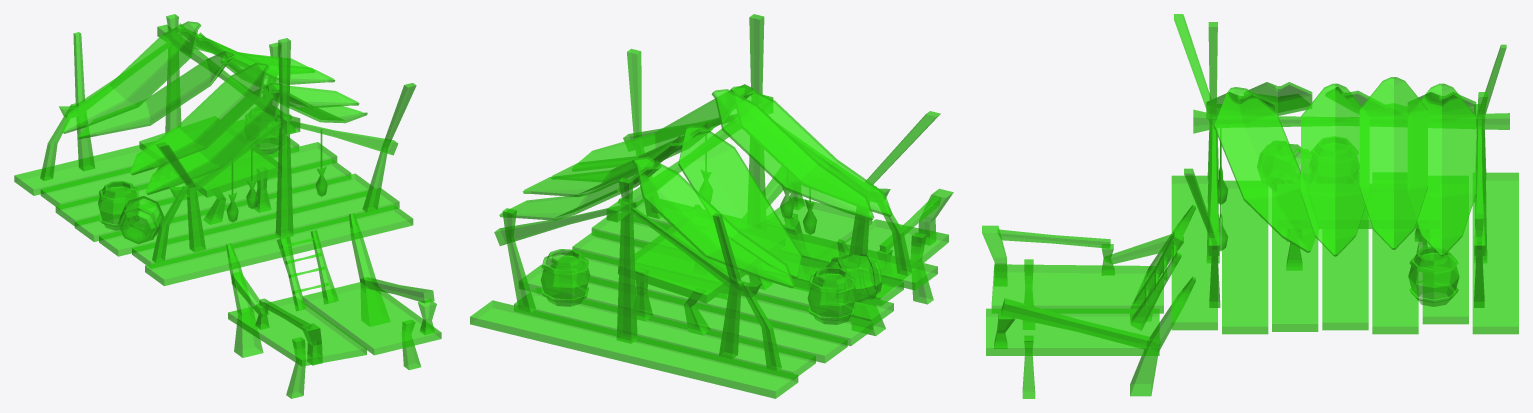
Rendered from Water_house_possible_to_place.fbx.
The picture shows the model from 3 angles, left to right: view 1: azimuth 30°, elevation 25°; view 2: azimuth 150°, elevation 25°; view 3: azimuth 270°, elevation 25°; orthographic projection. The views are drawn at different scales.
Parts seen in each view (by area): view 1: Plane.001; view 2: Plane.001; view 3: Plane.001.
Boxes of the visible parts, x1,y1,x2,y2 form: Plane.001: [14, 14, 441, 398]; Plane.001: [470, 14, 953, 398]; Plane.001: [982, 14, 1518, 398].
Bounding box in the file's own units: 7 × 10 × 7.
